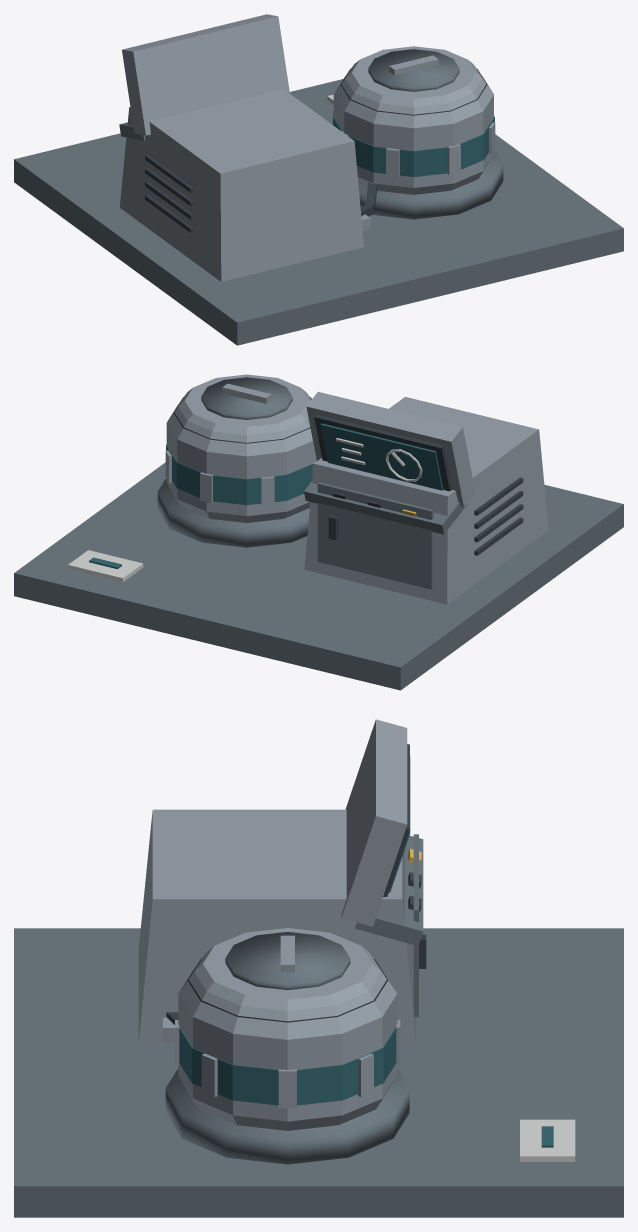
File: MOD_Sonar_Internal.glb
3 renders of one model, top to bottom at view 1: azimuth 30°, elevation 25°; view 2: azimuth 150°, elevation 25°; view 3: azimuth 270°, elevation 25°, orthographic. The views are drawn at different scales.
Parts seen in each view (by area): view 1: InboardEquipmentFoundation, AcousticProcessorCabinet, ProtectedCircularHullUnit, InclinedSonarConsole, HullUnitBaseFlange, AcousticArrayBand, ServiceAccessCover, ServiceAccessHandle; view 2: InboardEquipmentFoundation, AcousticProcessorCabinet, ProtectedCircularHullUnit, CabinetServiceDoor, InclinedSonarConsole, HullUnitBaseFlange, ConsoleScopeFace, AcousticArrayBand, ServiceAccessCover, ProtectedControlShelf, ConsoleBlackBezel, InboardIdentificationPlate (+1 smaller); view 3: InboardEquipmentFoundation, AcousticProcessorCabinet, ProtectedCircularHullUnit, InclinedSonarConsole, HullUnitBaseFlange, AcousticArrayBand, ServiceAccessCover, InboardIdentificationPlate, ProtectedControlShelf, CabinetServiceDoor, AcousticBandSeparator_01.
Part boxes in pixels (x1,y1,x2,y2): InboardEquipmentFoundation: (14, 79, 623, 345); AcousticProcessorCabinet: (120, 89, 363, 281); ProtectedCircularHullUnit: (333, 46, 493, 194); InclinedSonarConsole: (122, 14, 289, 135); HullUnitBaseFlange: (358, 151, 503, 219); AcousticArrayBand: (333, 116, 494, 176); ServiceAccessCover: (368, 49, 459, 91); ServiceAccessHandle: (389, 55, 438, 75); InboardEquipmentFoundation: (14, 462, 623, 690); AcousticProcessorCabinet: (304, 397, 548, 604); ProtectedCircularHullUnit: (166, 374, 316, 522); CabinetServiceDoor: (317, 482, 433, 589); InclinedSonarConsole: (306, 392, 475, 507); HullUnitBaseFlange: (157, 479, 309, 547); ConsoleScopeFace: (320, 423, 443, 490); AcousticArrayBand: (166, 445, 312, 505); ServiceAccessCover: (201, 377, 292, 419); ProtectedControlShelf: (304, 481, 466, 534); ConsoleBlackBezel: (314, 414, 452, 491); InboardIdentificationPlate: (68, 550, 143, 582); InboardEquipmentFoundation: (14, 928, 623, 1217); AcousticProcessorCabinet: (138, 809, 415, 1043); ProtectedCircularHullUnit: (178, 928, 397, 1130); InclinedSonarConsole: (341, 719, 407, 926); HullUnitBaseFlange: (165, 1068, 409, 1164); AcousticArrayBand: (179, 1027, 396, 1105); ServiceAccessCover: (225, 932, 350, 989); InboardIdentificationPlate: (520, 1119, 575, 1161); ProtectedControlShelf: (355, 835, 423, 945); CabinetServiceDoor: (413, 834, 418, 1017); AcousticBandSeparator_01: (278, 1069, 296, 1108).
Bounding box in the file's own units: 1.76 × 0.8265 × 1.76.
